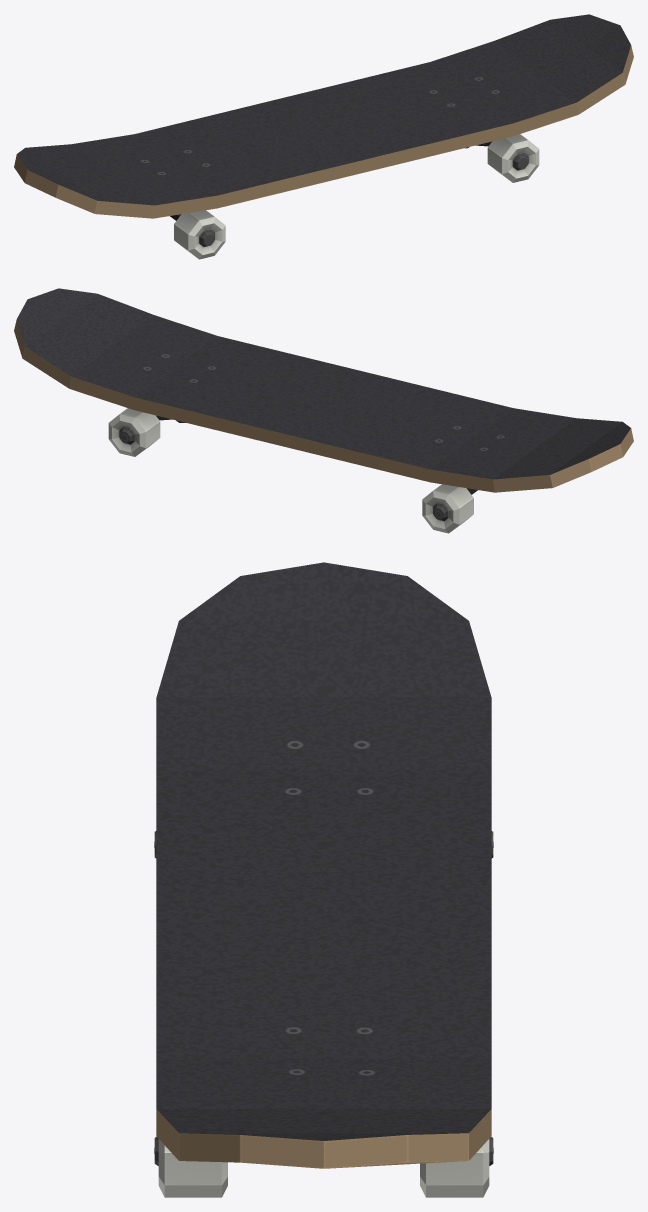
The model's file is Skateboard.glb.
3 renders of one model, top to bottom at view 1: azimuth 30°, elevation 25°; view 2: azimuth 150°, elevation 25°; view 3: azimuth 270°, elevation 25°, orthographic. The views are drawn at different scales.
Parts seen in each view (by area): view 1: Skateboard_Mesh; view 2: Skateboard_Mesh; view 3: Skateboard_Mesh.
Boxes of the visible parts, x1,y1,x2,y2 form: Skateboard_Mesh: (14, 14, 633, 259); Skateboard_Mesh: (14, 288, 633, 533); Skateboard_Mesh: (154, 562, 493, 1197).
Size of the model in its own units: 5.97 by 0.8822 by 1.46.
1 material, 1 textured.
